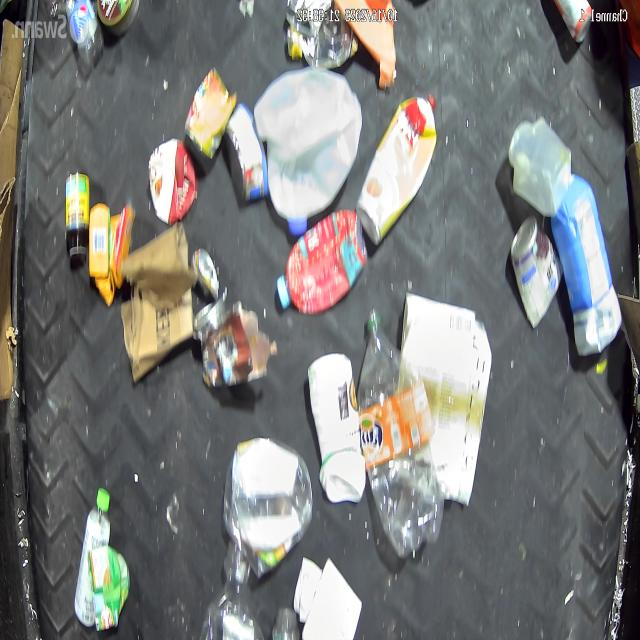can: (509, 214, 564, 331), (184, 64, 238, 163), (223, 100, 269, 204), (190, 246, 220, 303), (192, 297, 225, 344)
milk_jug: (254, 66, 364, 236)
plastic_bottle: (356, 306, 446, 559), (65, 0, 105, 64)
